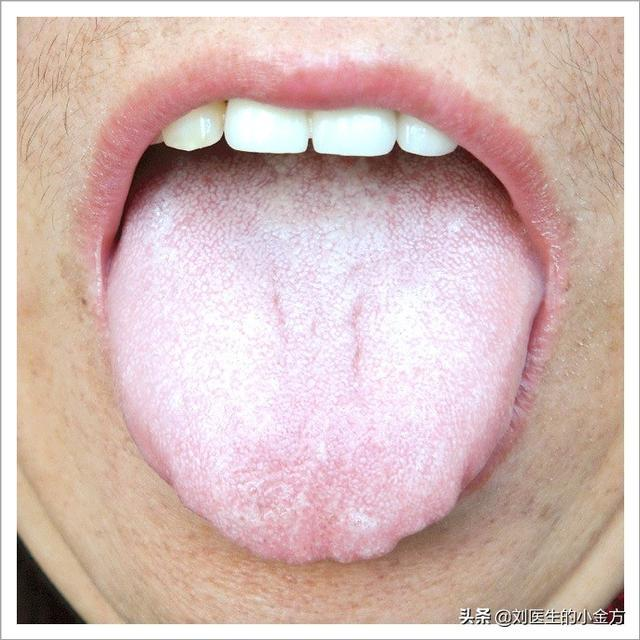tongue: (90, 153, 537, 577)
